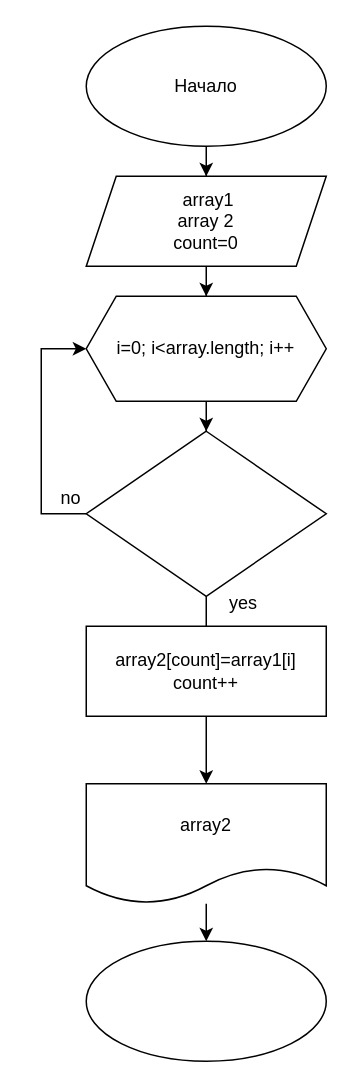
The diagram is 353 pixels wide and 1088 high, and some of its shapes have lost their labels. The shapes that lost their labels are listed below. From the top down, each one's centre as x and y in pixels, then its label:
point (205, 513): array 1[i]length <= 3?
point (205, 1000): Конец
